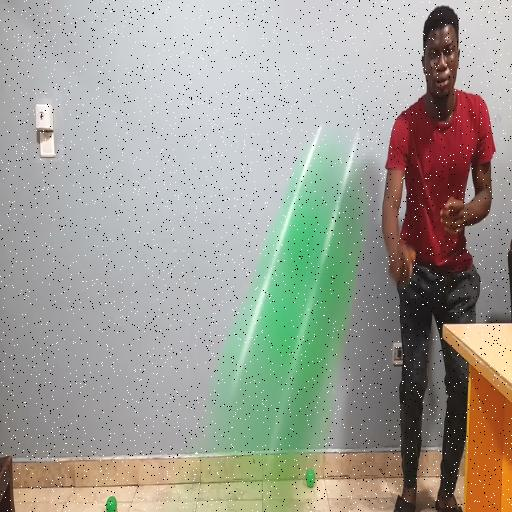plastic-ball: (203, 128, 366, 453)
